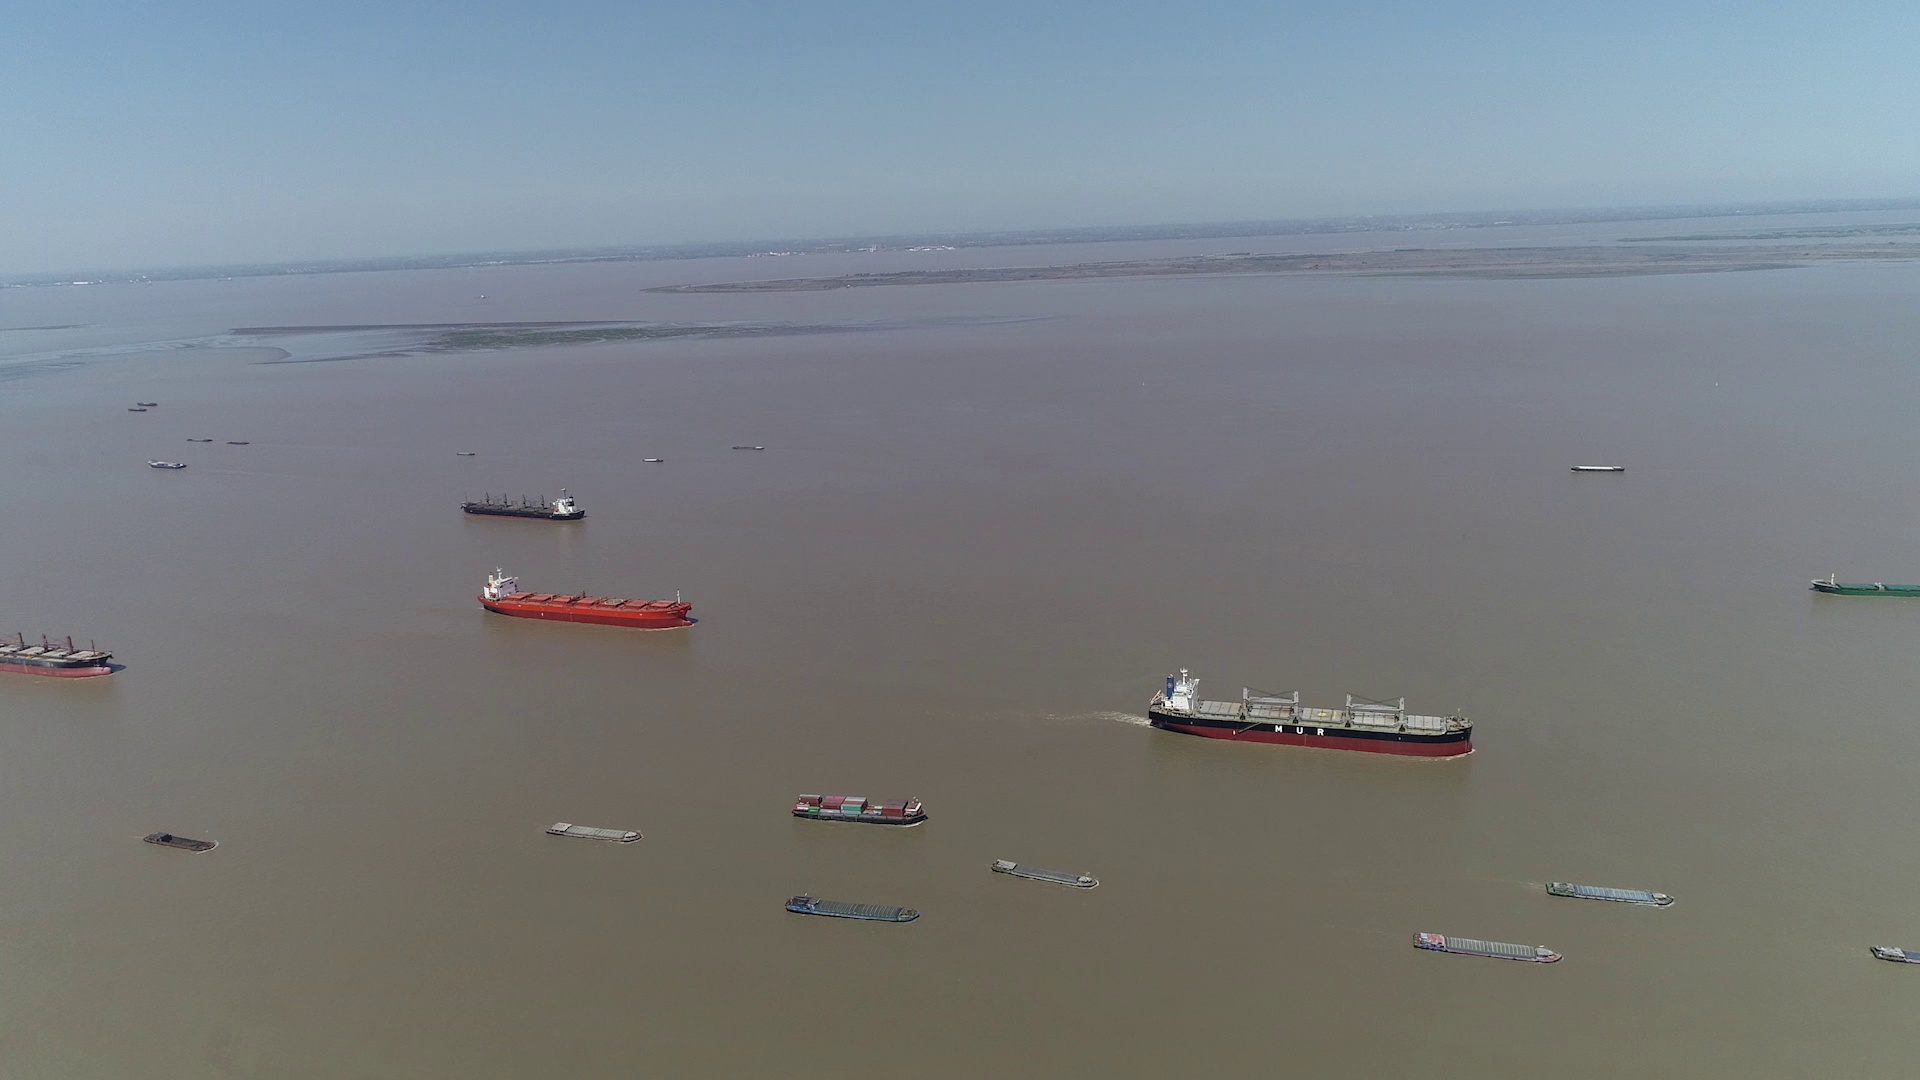ship: (1153, 669, 1476, 757), (481, 568, 692, 629), (1, 615, 117, 680), (786, 876, 918, 915), (1412, 932, 1561, 964), (793, 791, 928, 825), (785, 893, 920, 924), (460, 489, 585, 521), (1547, 880, 1673, 909), (992, 858, 1098, 889), (1808, 576, 1917, 597), (545, 819, 640, 843), (145, 831, 219, 853), (1870, 943, 1917, 967), (1569, 462, 1625, 471), (146, 459, 189, 469)
